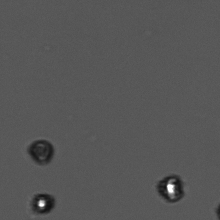Dead Cell: (22, 135, 58, 169)
Living Cell: (153, 173, 188, 203), (25, 191, 58, 216)
